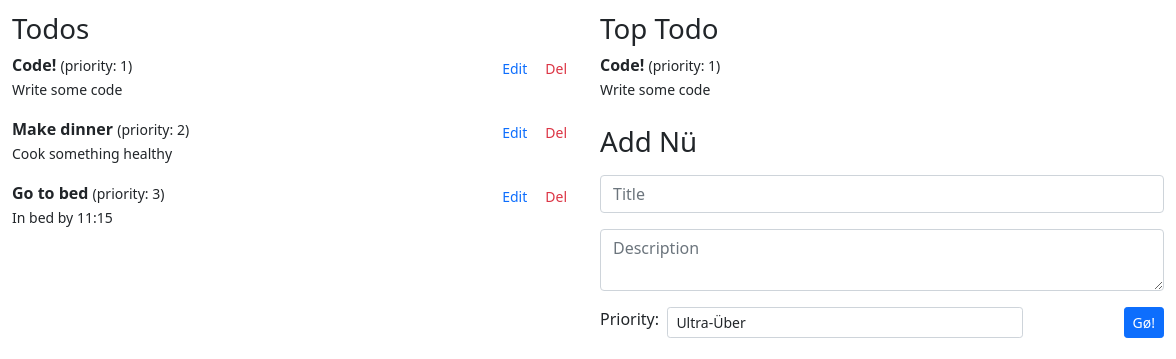
it: TodoApp › should update existing todo in todolist and top todo after editing and submitting edit form.
The width and height of the screenshot is (1176, 359).
Click the 1st button "Edit": coordinates (515, 69) [493,53,536,84]
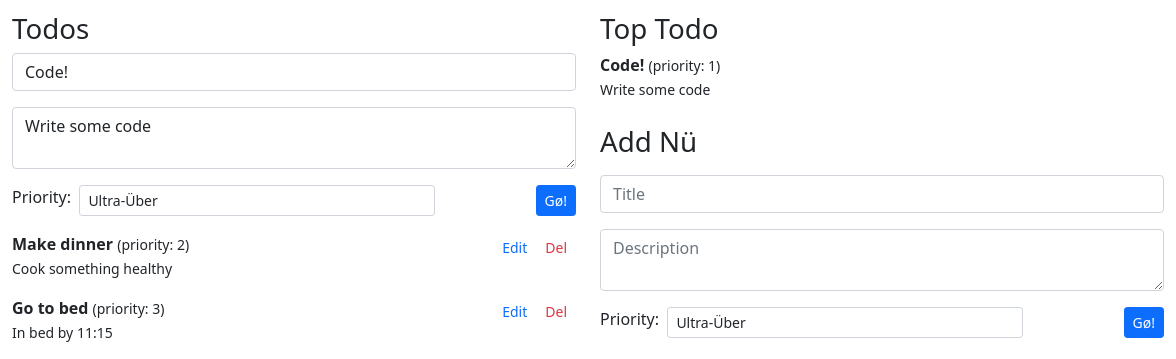
Replace the text in the field with id "newTodo-title" with "test": coordinates (294, 72) [12,53,576,91]
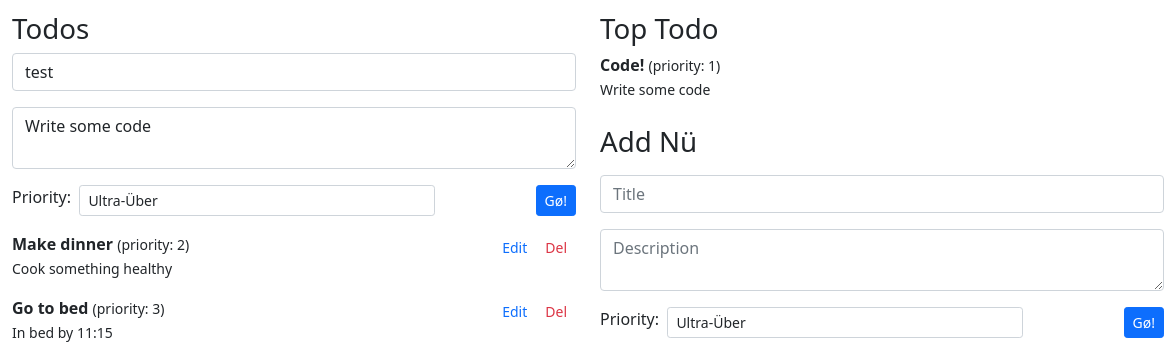
Replace the text in the text box with id "newTodo-description" with "testing": coordinates (294, 138) [12,107,576,169]
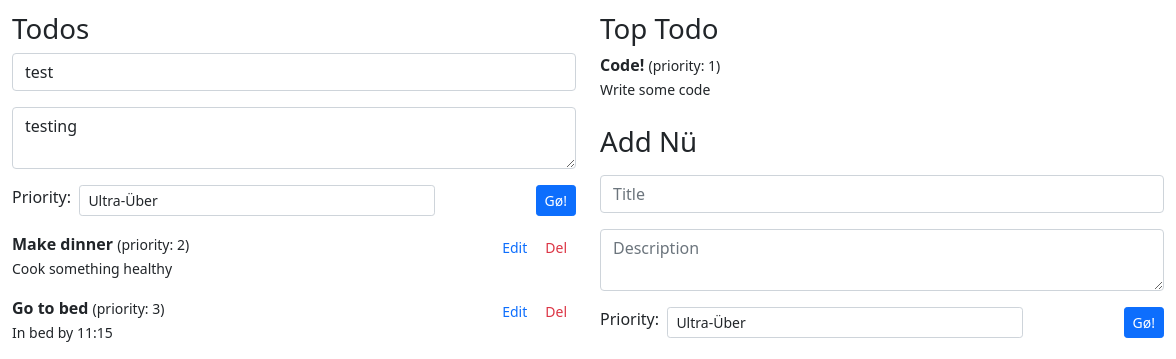
Select "Ultra-Über" in the dropdown with id "newTodo-priority": coordinates (257, 201) [79,185,435,216]
Click the 1st button "Gø!": coordinates (556, 201) [536,185,576,216]
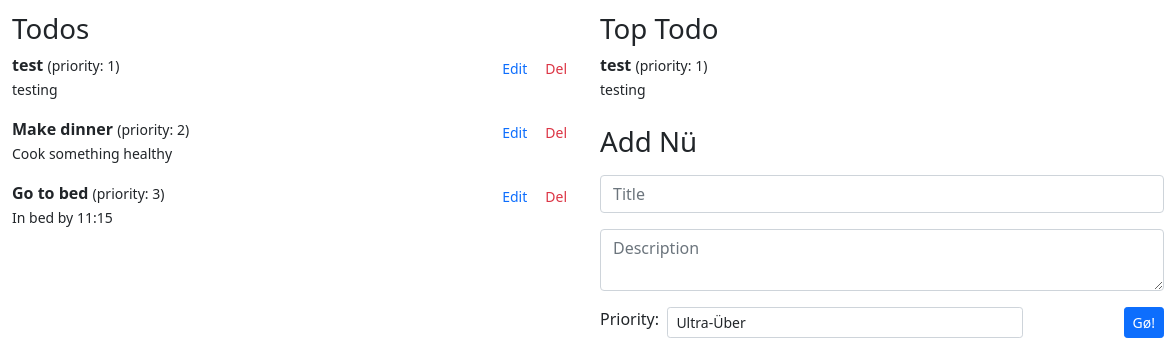
Check: the text "test" is shown 2 times, box [12,54,43,76]; [600,54,631,76]
